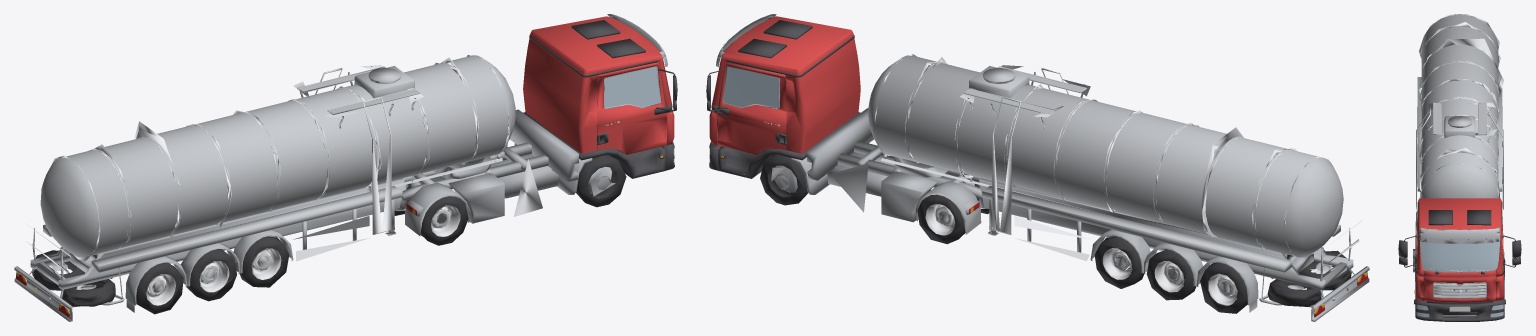
File: archmodels55-18.glb
The picture shows the model from 3 angles, left to right: view 1: azimuth 30°, elevation 25°; view 2: azimuth 150°, elevation 25°; view 3: azimuth 270°, elevation 25°; orthographic projection. The views are drawn at different scales.
Parts seen in each view (by area): view 1: Archmodels55_18_OilTank, Archmodels55_18_frame, Archmodels55_18_carpaint, Archmodels55_18_tires, Archmodels55_18_chrome, Archmodels55_18_black_plastic, Archmodels55_18_details, Archmodels55_18_rims, Archmodels55_18_glass; view 2: Archmodels55_18_OilTank, Archmodels55_18_frame, Archmodels55_18_carpaint, Archmodels55_18_tires, Archmodels55_18_chrome, Archmodels55_18_details, Archmodels55_18_black_plastic, Archmodels55_18_rims, Archmodels55_18_glass; view 3: Archmodels55_18_OilTank, Archmodels55_18_carpaint, Archmodels55_18_black_plastic, Archmodels55_18_chrome, Archmodels55_18_glass, Archmodels55_18_windshield_spoiler, Archmodels55_18_grill, Archmodels55_18_headlight_glass, Archmodels55_18_details, Archmodels55_18_register_plate, Archmodels55_18_trailer_details.
Part boxes in pixels (left/top/right/bottom): Archmodels55_18_OilTank: left=40, top=55, right=515, bottom=272; Archmodels55_18_frame: left=14, top=109, right=611, bottom=321; Archmodels55_18_carpaint: left=523, top=16, right=674, bottom=154; Archmodels55_18_tires: left=32, top=154, right=626, bottom=314; Archmodels55_18_chrome: left=27, top=55, right=653, bottom=289; Archmodels55_18_black_plastic: left=523, top=17, right=677, bottom=178; Archmodels55_18_details: left=25, top=66, right=661, bottom=313; Archmodels55_18_rims: left=96, top=184, right=460, bottom=305; Archmodels55_18_glass: left=604, top=67, right=660, bottom=107; Archmodels55_18_OilTank: left=868, top=55, right=1343, bottom=272; Archmodels55_18_frame: left=774, top=108, right=1369, bottom=321; Archmodels55_18_carpaint: left=709, top=16, right=860, bottom=154; Archmodels55_18_tires: left=760, top=154, right=1351, bottom=313; Archmodels55_18_chrome: left=744, top=54, right=1362, bottom=289; Archmodels55_18_details: left=722, top=66, right=1366, bottom=316; Archmodels55_18_black_plastic: left=706, top=17, right=860, bottom=178; Archmodels55_18_rims: left=925, top=184, right=1287, bottom=305; Archmodels55_18_glass: left=723, top=67, right=779, bottom=107; Archmodels55_18_OilTank: left=1417, top=14, right=1502, bottom=198; Archmodels55_18_carpaint: left=1415, top=198, right=1504, bottom=302; Archmodels55_18_black_plastic: left=1398, top=202, right=1521, bottom=321; Archmodels55_18_chrome: left=1416, top=14, right=1503, bottom=292; Archmodels55_18_glass: left=1417, top=231, right=1502, bottom=272; Archmodels55_18_windshield_spoiler: left=1419, top=227, right=1500, bottom=243; Archmodels55_18_grill: left=1433, top=282, right=1486, bottom=298; Archmodels55_18_headlight_glass: left=1416, top=304, right=1503, bottom=317; Archmodels55_18_details: left=1415, top=221, right=1504, bottom=281; Archmodels55_18_register_plate: left=1449, top=306, right=1470, bottom=311; Archmodels55_18_trailer_details: left=1417, top=107, right=1502, bottom=178.
Bounding box in the file's own units: 15.71 × 3.87 × 3.64.
